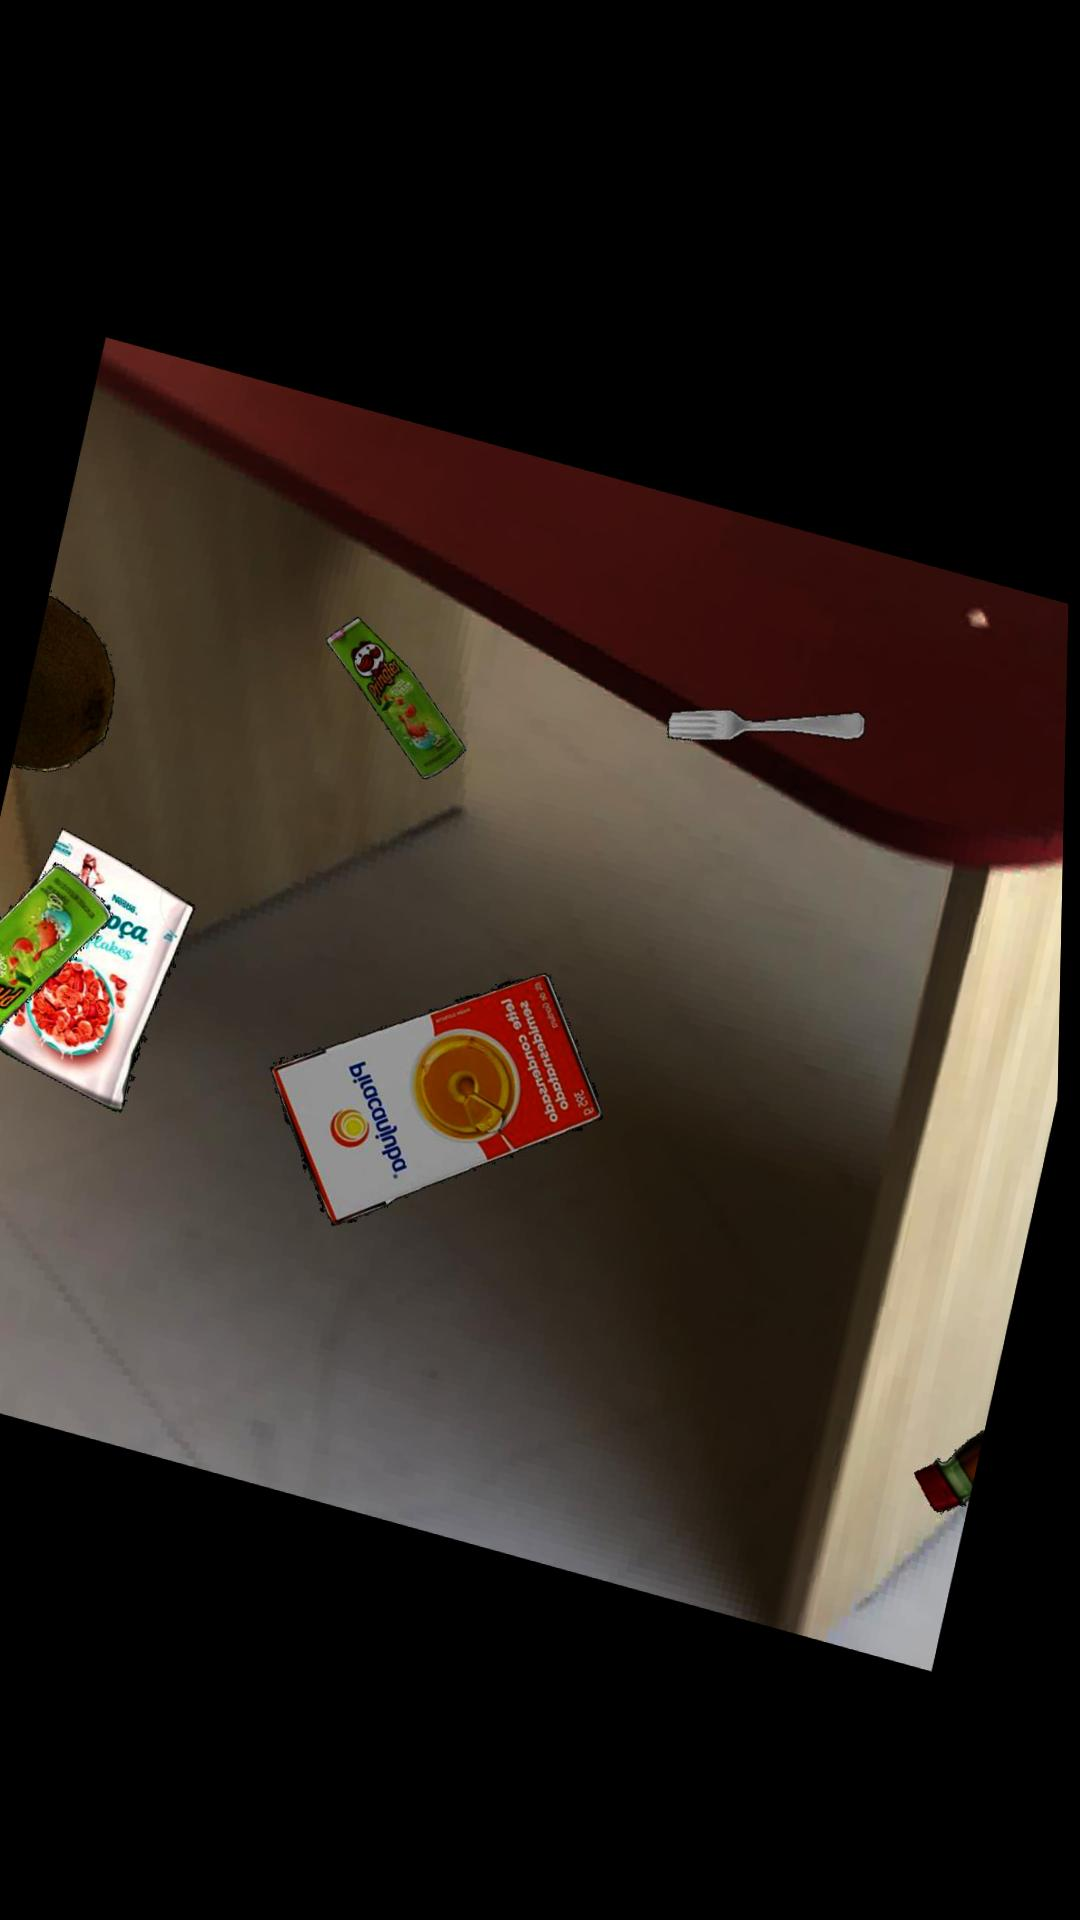corn flakes: (0, 827, 198, 1110)
fork: (669, 696, 866, 729)
guarana: (919, 1411, 992, 1495)
kiwi: (15, 595, 116, 771)
pringles: (328, 611, 468, 771), (0, 861, 115, 1030)
